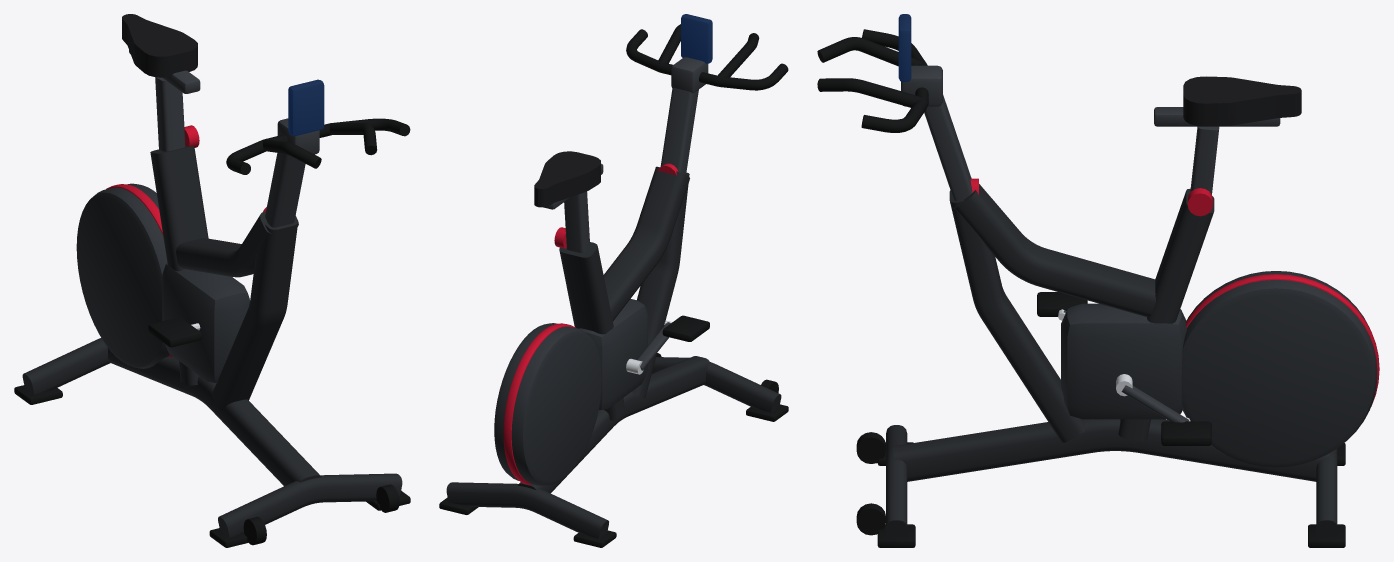
File: bike_spin.glb
The picture shows the model from 3 angles, left to right: view 1: azimuth 30°, elevation 25°; view 2: azimuth 150°, elevation 25°; view 3: azimuth 270°, elevation 25°; orthographic projection. The views are drawn at different scales.
Visible parts, largest first — view 1: bike_spin; view 2: bike_spin; view 3: bike_spin.
Boxes of the visible parts, x1,y1,x2,y2 form: bike_spin: [14, 14, 410, 547]; bike_spin: [439, 14, 788, 547]; bike_spin: [817, 14, 1379, 547].
Size of the model in its own units: 0.56 by 1.25 by 1.33.
